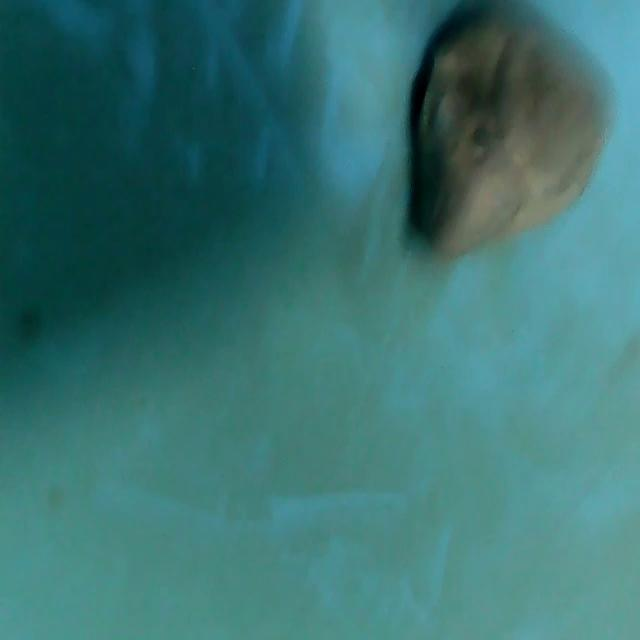rock: (407, 5, 619, 264)
